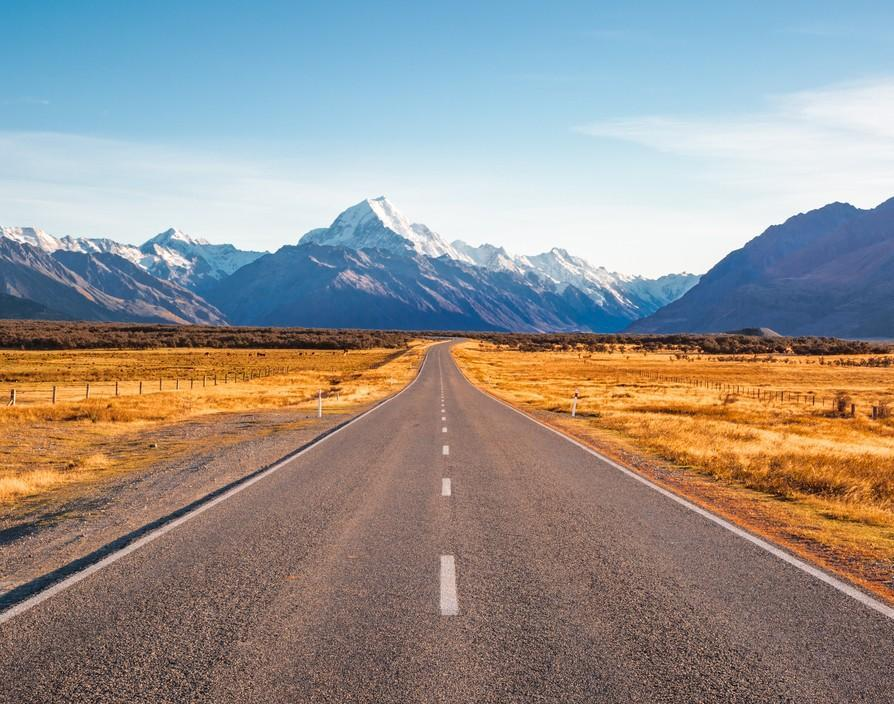mountain: (2, 192, 471, 325), (486, 188, 894, 337)
